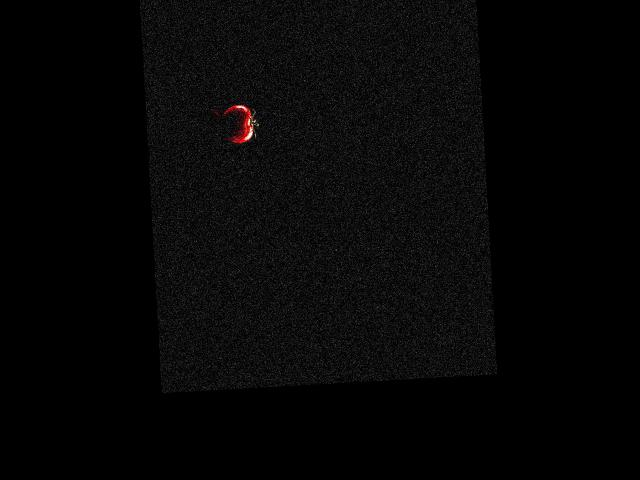tomato: (222, 104, 254, 144)
